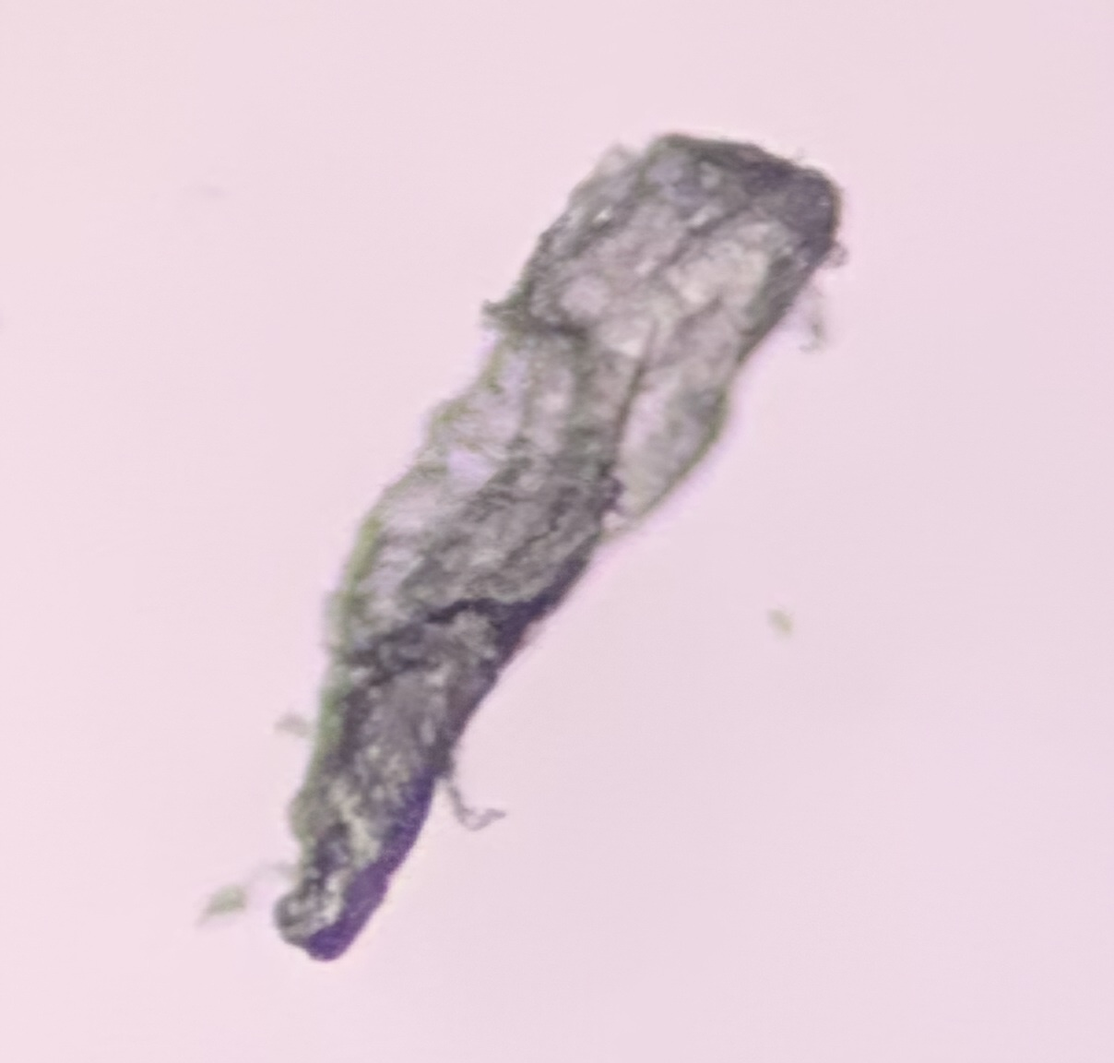microplastic: (267, 131, 847, 966)
